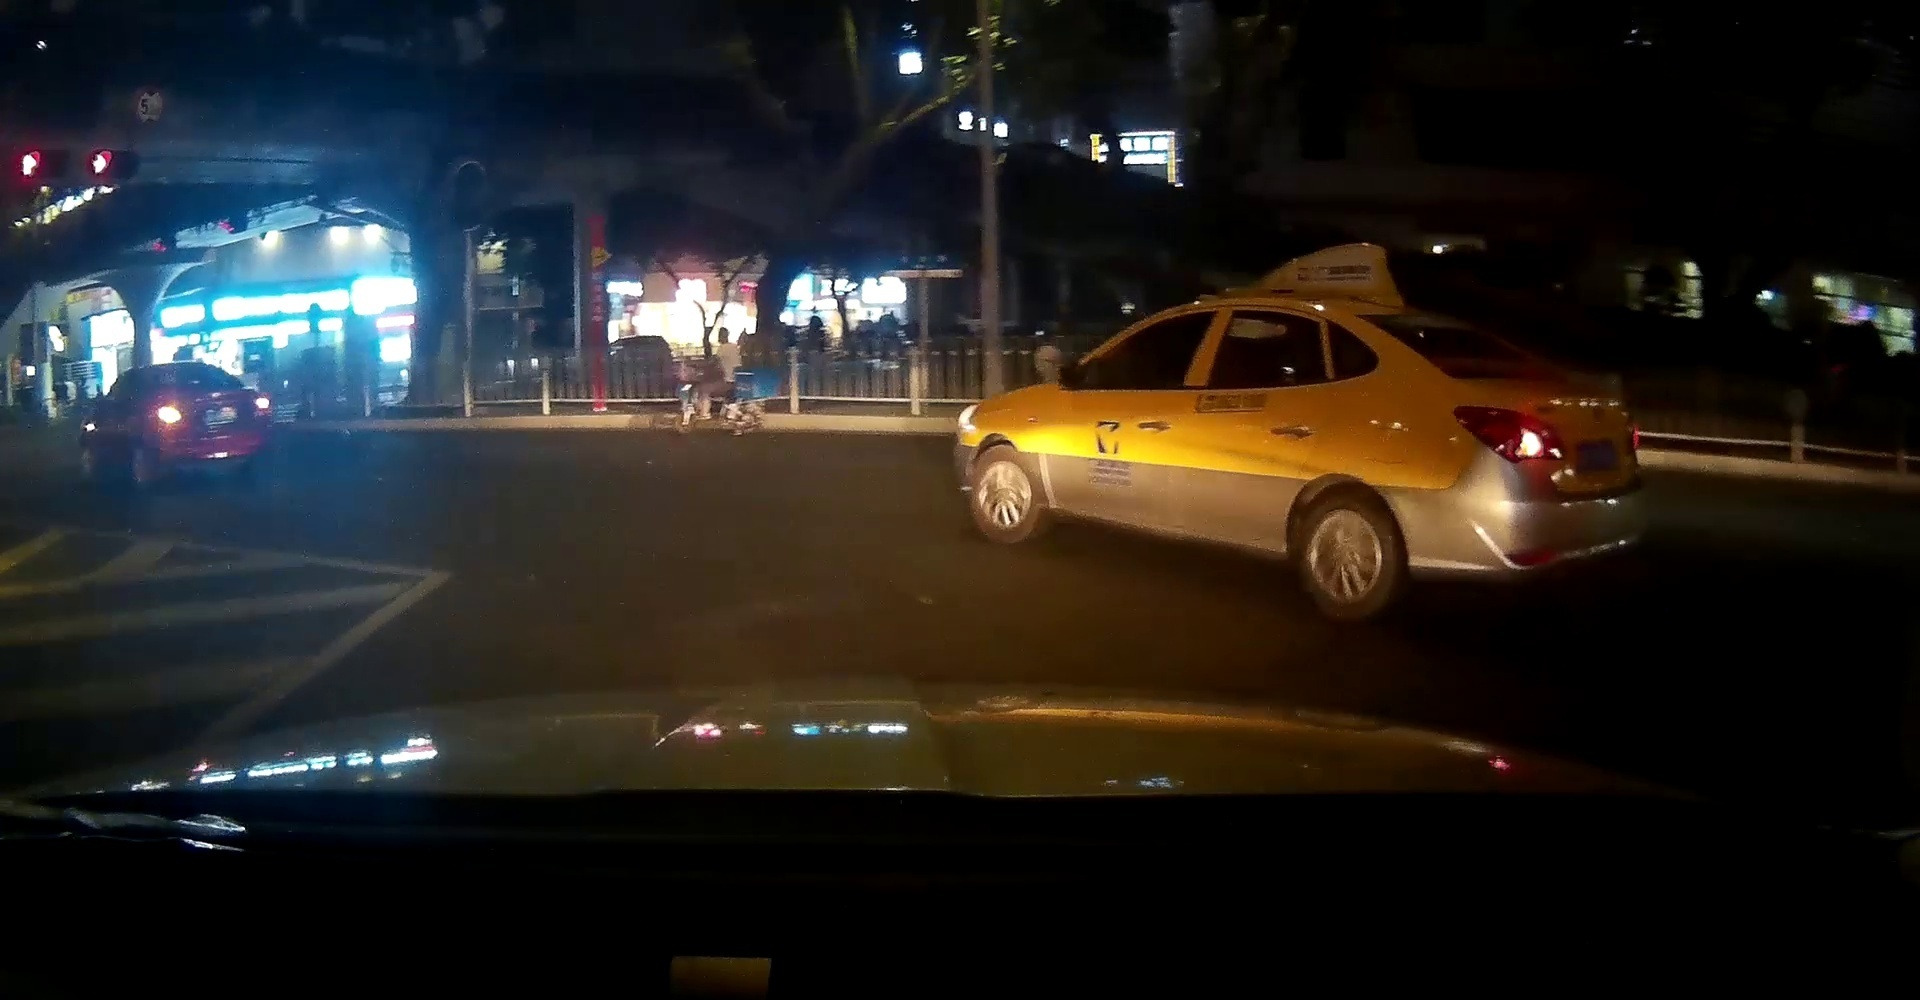L_light: (1451, 405, 1564, 464), (155, 406, 183, 423)
R_light: (1622, 410, 1639, 456), (251, 395, 269, 414)
T_light: (1407, 313, 1444, 324), (171, 365, 190, 369)
night-left: (135, 360, 270, 482)
night-no: (1355, 308, 1655, 623)
